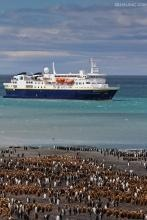youlun: (2, 59, 124, 98)
